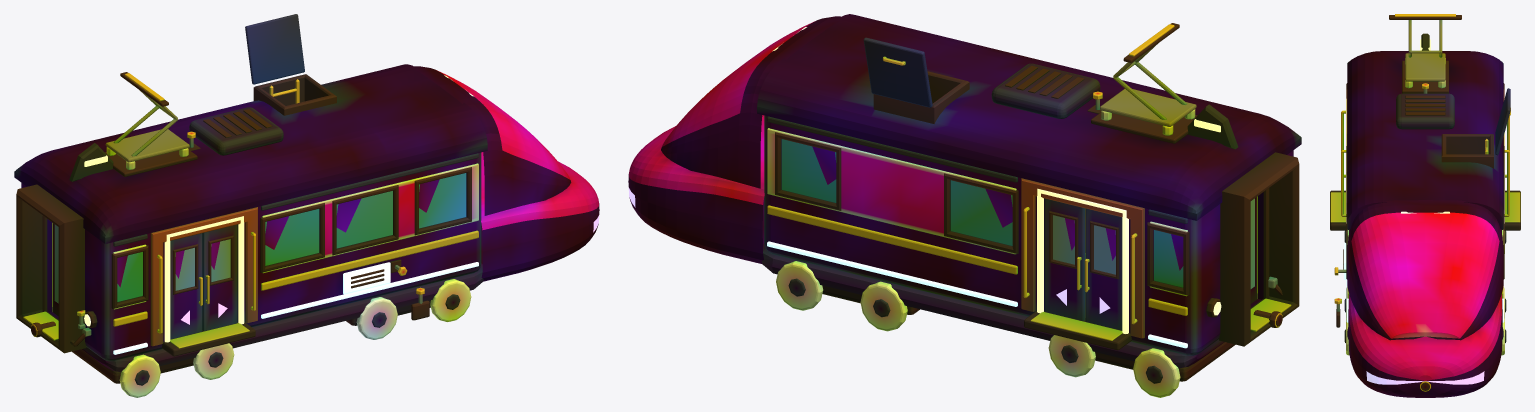
The model's file is FuturisticCabCar_Blockout.fbx.
3 views of the same model, side by side, from view 1: azimuth 30°, elevation 25°; view 2: azimuth 150°, elevation 25°; view 3: azimuth 270°, elevation 25° (orthographic). The views are drawn at different scales.
Visible parts, largest first — view 1: Roof, Body, Nose, Windows, Underframe, Ends, Livery, SideDoorLeaf_R, DoorPortal, SideDoorLeaf_L, RoofHatch_Cab, WindowBand (+5 smaller); view 2: Roof, Body, Nose, Underframe, Ends, Windows, WindowBand, Livery, SideDoorLeaf_R_Far, DoorPortal, SideDoorLeaf_L_Far, RoofHatch_Cab (+4 smaller); view 3: Nose, Roof, SideDoorSill, SideDoorSill_Far, Fixed_Rail__Pantograph, Windows, RoofHatch_Cab, Underframe, Livery.
Boxes of the visible parts, bbox=[...] form: Roof: bbox=[14, 64, 487, 243]; Body: bbox=[21, 152, 481, 361]; Nose: bbox=[414, 66, 599, 281]; Windows: bbox=[111, 167, 471, 308]; Underframe: bbox=[72, 263, 483, 397]; Ends: bbox=[16, 184, 97, 353]; Livery: bbox=[113, 153, 478, 354]; SideDoorLeaf_R: bbox=[202, 224, 237, 330]; DoorPortal: bbox=[150, 207, 257, 346]; SideDoorLeaf_L: bbox=[170, 233, 202, 339]; RoofHatch_Cab: bbox=[245, 14, 304, 84]; WindowBand: bbox=[113, 163, 478, 309]; Roof: bbox=[757, 14, 1301, 220]; Body: bbox=[764, 115, 1293, 355]; Nose: bbox=[628, 16, 841, 263]; Underframe: bbox=[761, 243, 1235, 397]; Ends: bbox=[1206, 152, 1299, 346]; Windows: bbox=[775, 132, 1189, 295]; WindowBand: bbox=[767, 128, 1187, 296]; Livery: bbox=[767, 116, 1187, 348]; SideDoorLeaf_R_Far: bbox=[1044, 198, 1085, 320]; DoorPortal: bbox=[1021, 178, 1144, 338]; SideDoorLeaf_L_Far: bbox=[1084, 208, 1122, 330]; RoofHatch_Cab: bbox=[863, 37, 932, 107]; Nose: bbox=[1347, 200, 1503, 397]; Roof: bbox=[1347, 33, 1503, 228]; SideDoorSill: bbox=[1330, 110, 1346, 230]; SideDoorSill_Far: bbox=[1504, 116, 1520, 230]; Fixed_Rail__Pantograph: bbox=[1389, 14, 1461, 57]; Windows: bbox=[1346, 83, 1504, 279]; RoofHatch_Cab: bbox=[1495, 88, 1510, 155]; Underframe: bbox=[1344, 230, 1506, 355]; Livery: bbox=[1346, 229, 1504, 322].
Bounding box in the file's own units: 9.32 × 4.29 × 3.24.
